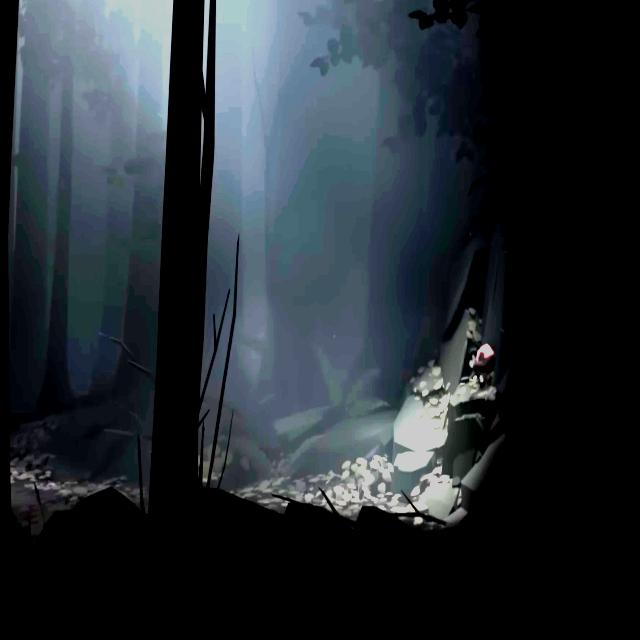boy: (468, 342, 496, 389)
